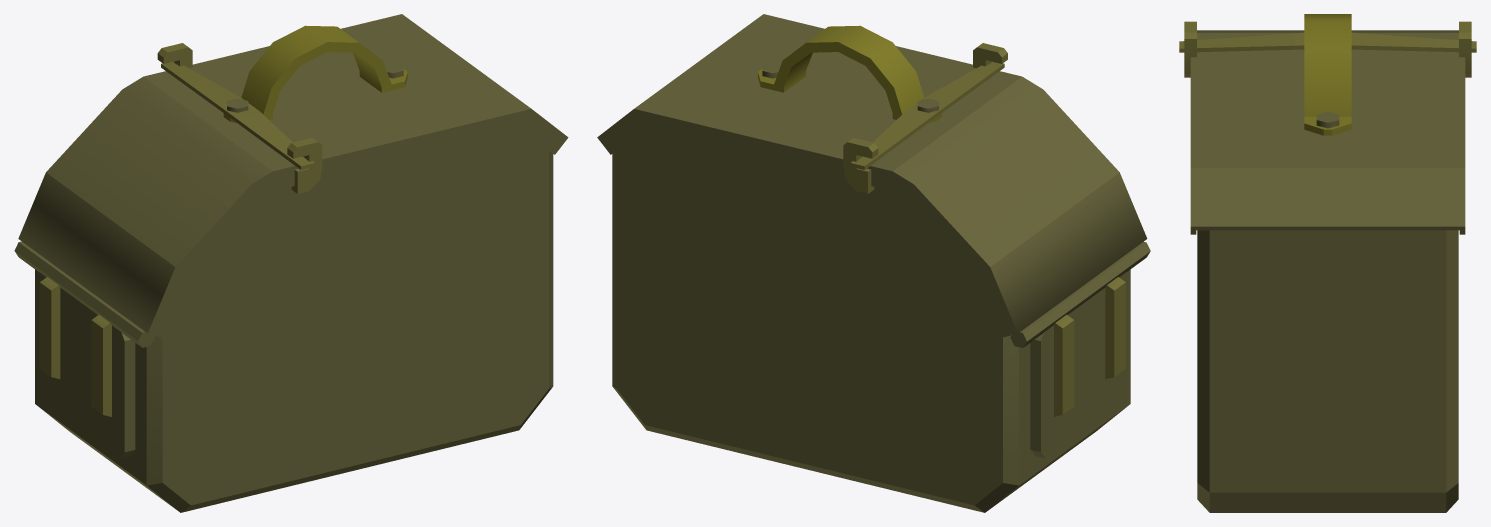
Rendered from Ammo_box_02.fbx.
3 renders of one model, left to right at view 1: azimuth 30°, elevation 25°; view 2: azimuth 150°, elevation 25°; view 3: azimuth 270°, elevation 25°, orthographic. The views are drawn at different scales.
Visible parts, largest first — view 1: Ammo_box_02; view 2: Ammo_box_02; view 3: Ammo_box_02.
Part boxes in pixels (x1=…): Ammo_box_02: x1=14, y1=14, x2=568, y2=512; Ammo_box_02: x1=597, y1=14, x2=1150, y2=512; Ammo_box_02: x1=1179, y1=14, x2=1476, y2=512.
Size of the model in its own units: 12.47 by 10.79 by 7.
